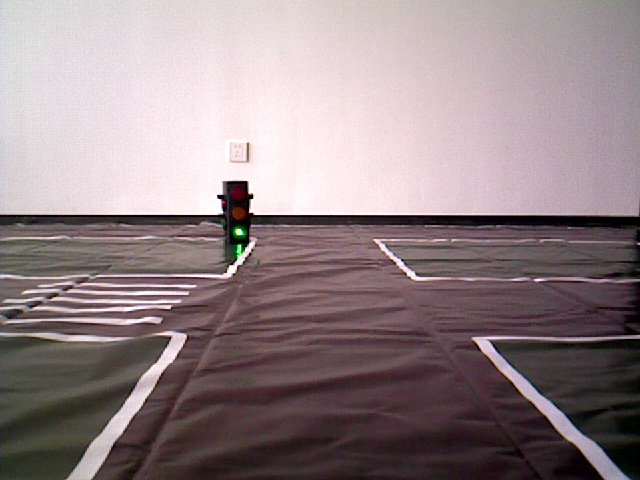green: (222, 181, 248, 238)
